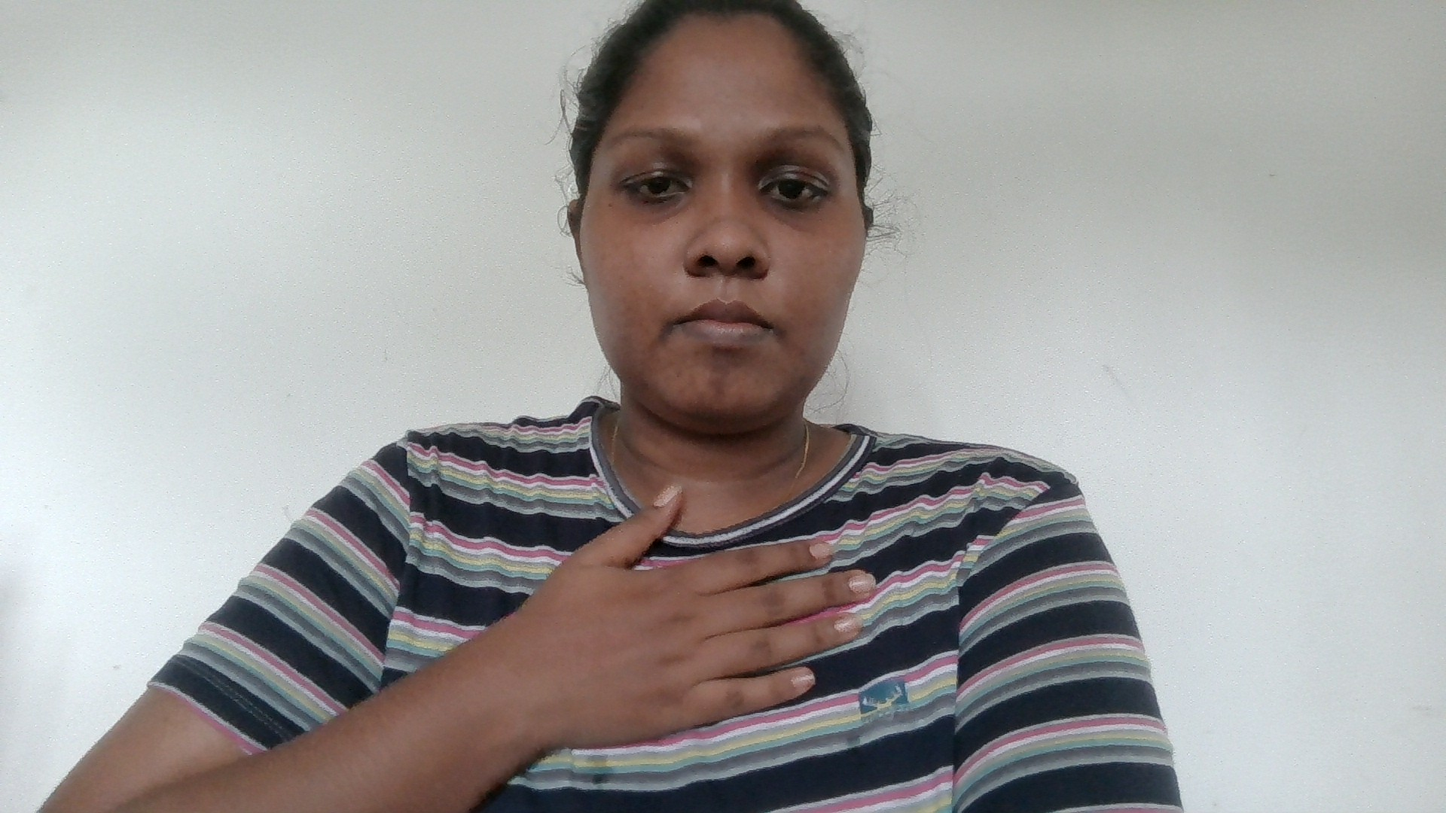Please: (476, 473, 882, 774)
